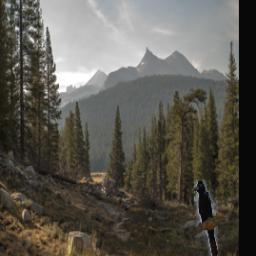Crow: (193, 180, 217, 256)
